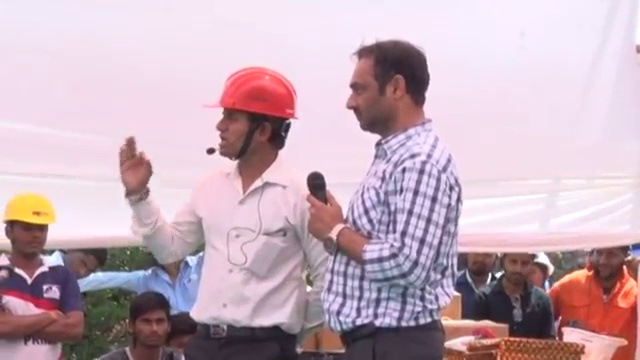helmet: (561, 325, 629, 360), (0, 194, 60, 231), (531, 252, 555, 276)
helmet_off: (348, 39, 433, 134), (125, 291, 173, 349), (61, 246, 105, 285), (588, 245, 629, 283), (502, 248, 534, 292), (465, 248, 498, 281)
helmet_on: (201, 71, 314, 184), (0, 194, 59, 271), (529, 253, 556, 292)
person: (118, 71, 330, 359), (299, 39, 471, 360), (0, 194, 85, 360), (547, 241, 640, 360), (91, 292, 186, 360), (482, 248, 554, 335), (140, 251, 207, 333), (452, 248, 502, 318)
